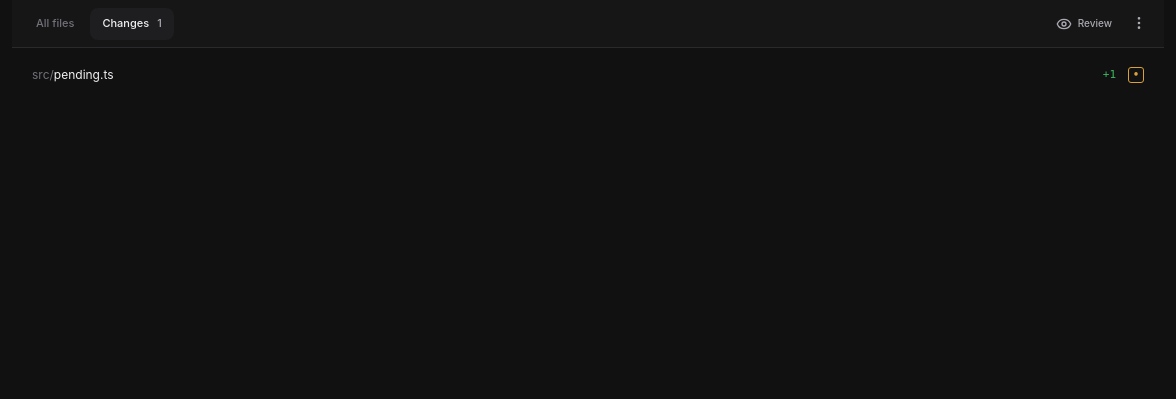
DiffPanel file list + diff view › changes the persisted base/upstream and immediately compares all changes against it
Expected: the button with test id "diff-file-src/pending.ts" is shown, [12, 56, 1164, 94]
Click the button with test id "git-more" at (1139, 23), box [1126, 10, 1152, 36]
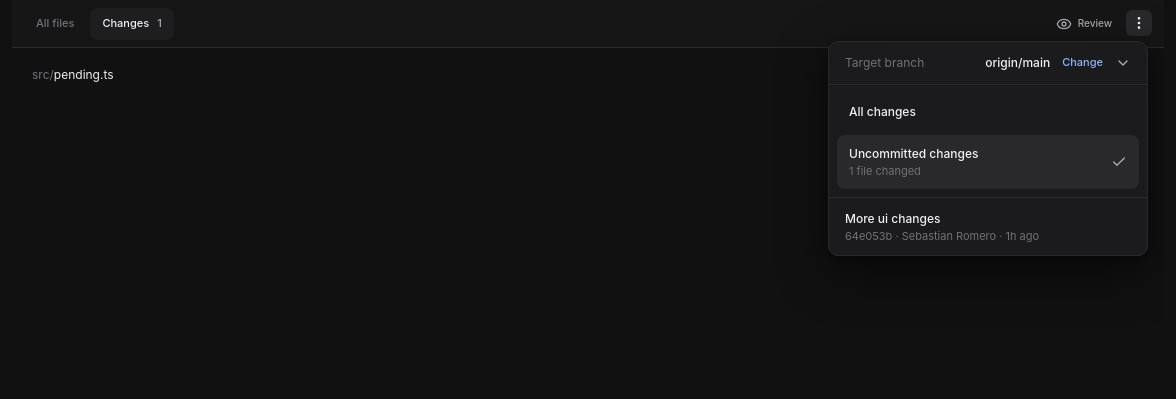
Click the menu item with test id "git-target-branch" at (988, 63), box [829, 42, 1147, 84]
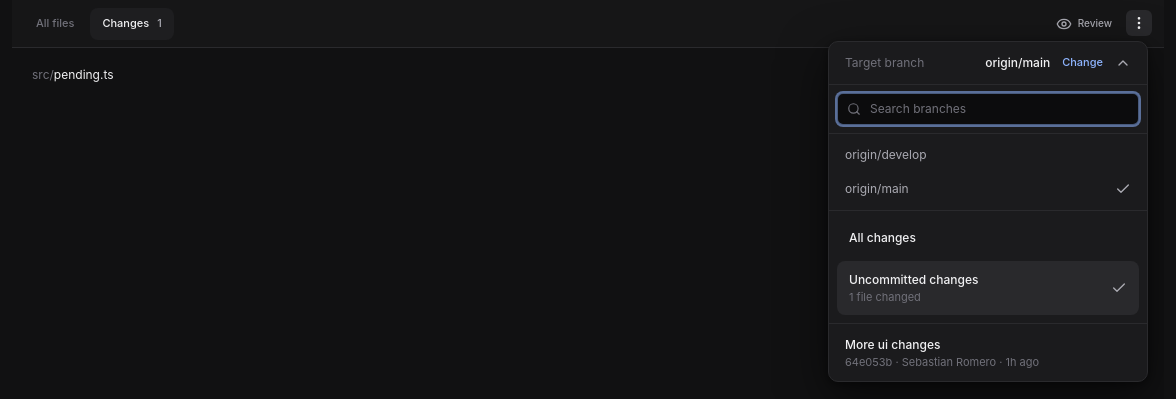
Click the menu item with test id "git-target-option-origin/develop" at (886, 154), box [829, 138, 1147, 172]
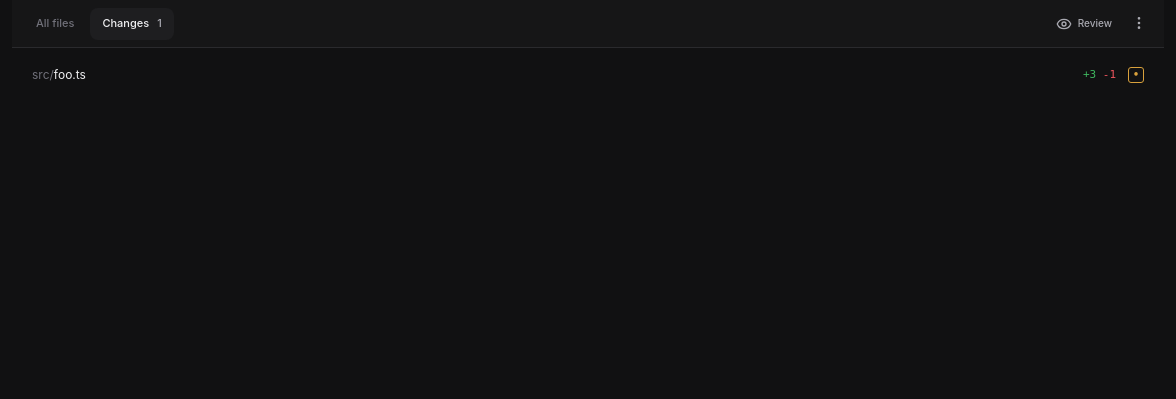
Expected: the button with test id "diff-file-src/foo.ts" is shown, [12, 56, 1164, 94]
